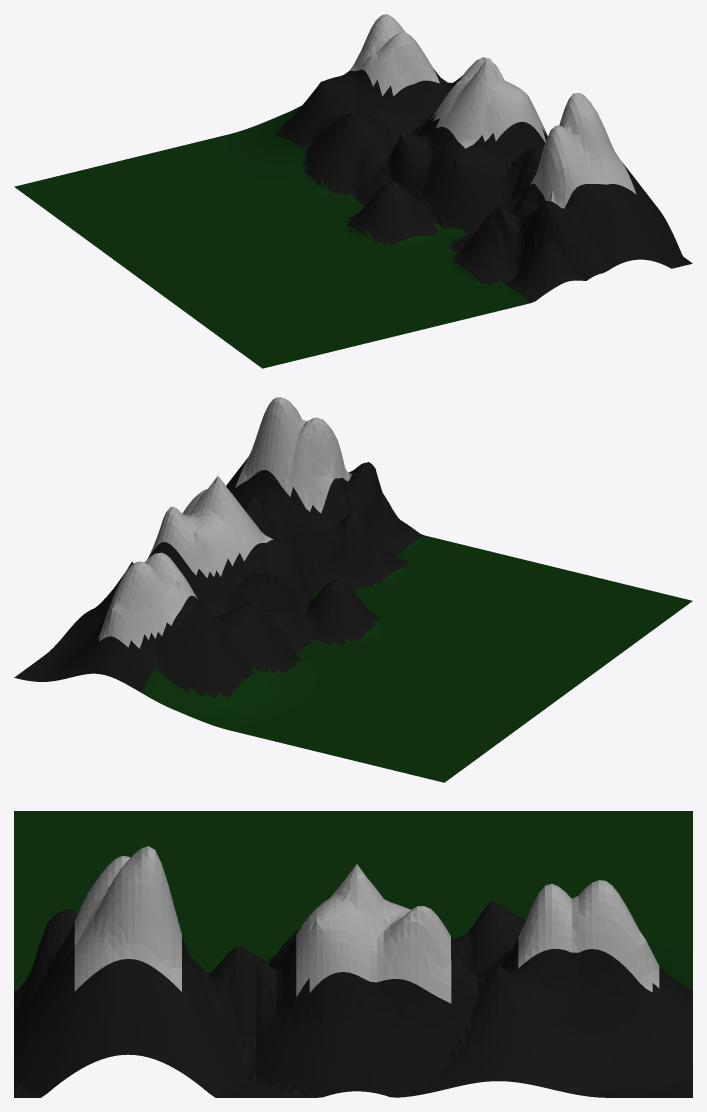
Rendered from terrain.obj.
The picture shows the model from 3 angles, top to bottom: view 1: azimuth 30°, elevation 25°; view 2: azimuth 150°, elevation 25°; view 3: azimuth 270°, elevation 25°; orthographic projection. The views are drawn at different scales.
Visible parts, largest first — view 1: Plane_Plane_Grass, Plane_Plane_Rock, Plane_Plane_Snow; view 2: Plane_Plane_Grass, Plane_Plane_Rock, Plane_Plane_Snow; view 3: Plane_Plane_Rock, Plane_Plane_Grass, Plane_Plane_Snow.
Boxes of the visible parts, left/top/right/bottom form: Plane_Plane_Grass: left=14, top=105, right=530, bottom=368; Plane_Plane_Rock: left=275, top=68, right=692, bottom=302; Plane_Plane_Snow: left=347, top=14, right=636, bottom=208; Plane_Plane_Grass: left=142, top=535, right=692, bottom=782; Plane_Plane_Rock: left=14, top=458, right=423, bottom=698; Plane_Plane_Snow: left=97, top=397, right=352, bottom=648; Plane_Plane_Rock: left=14, top=900, right=692, bottom=1097; Plane_Plane_Grass: left=14, top=811, right=692, bottom=990; Plane_Plane_Snow: left=74, top=846, right=659, bottom=1003.
Size of the model in its own units: 512 by 172 by 512.
